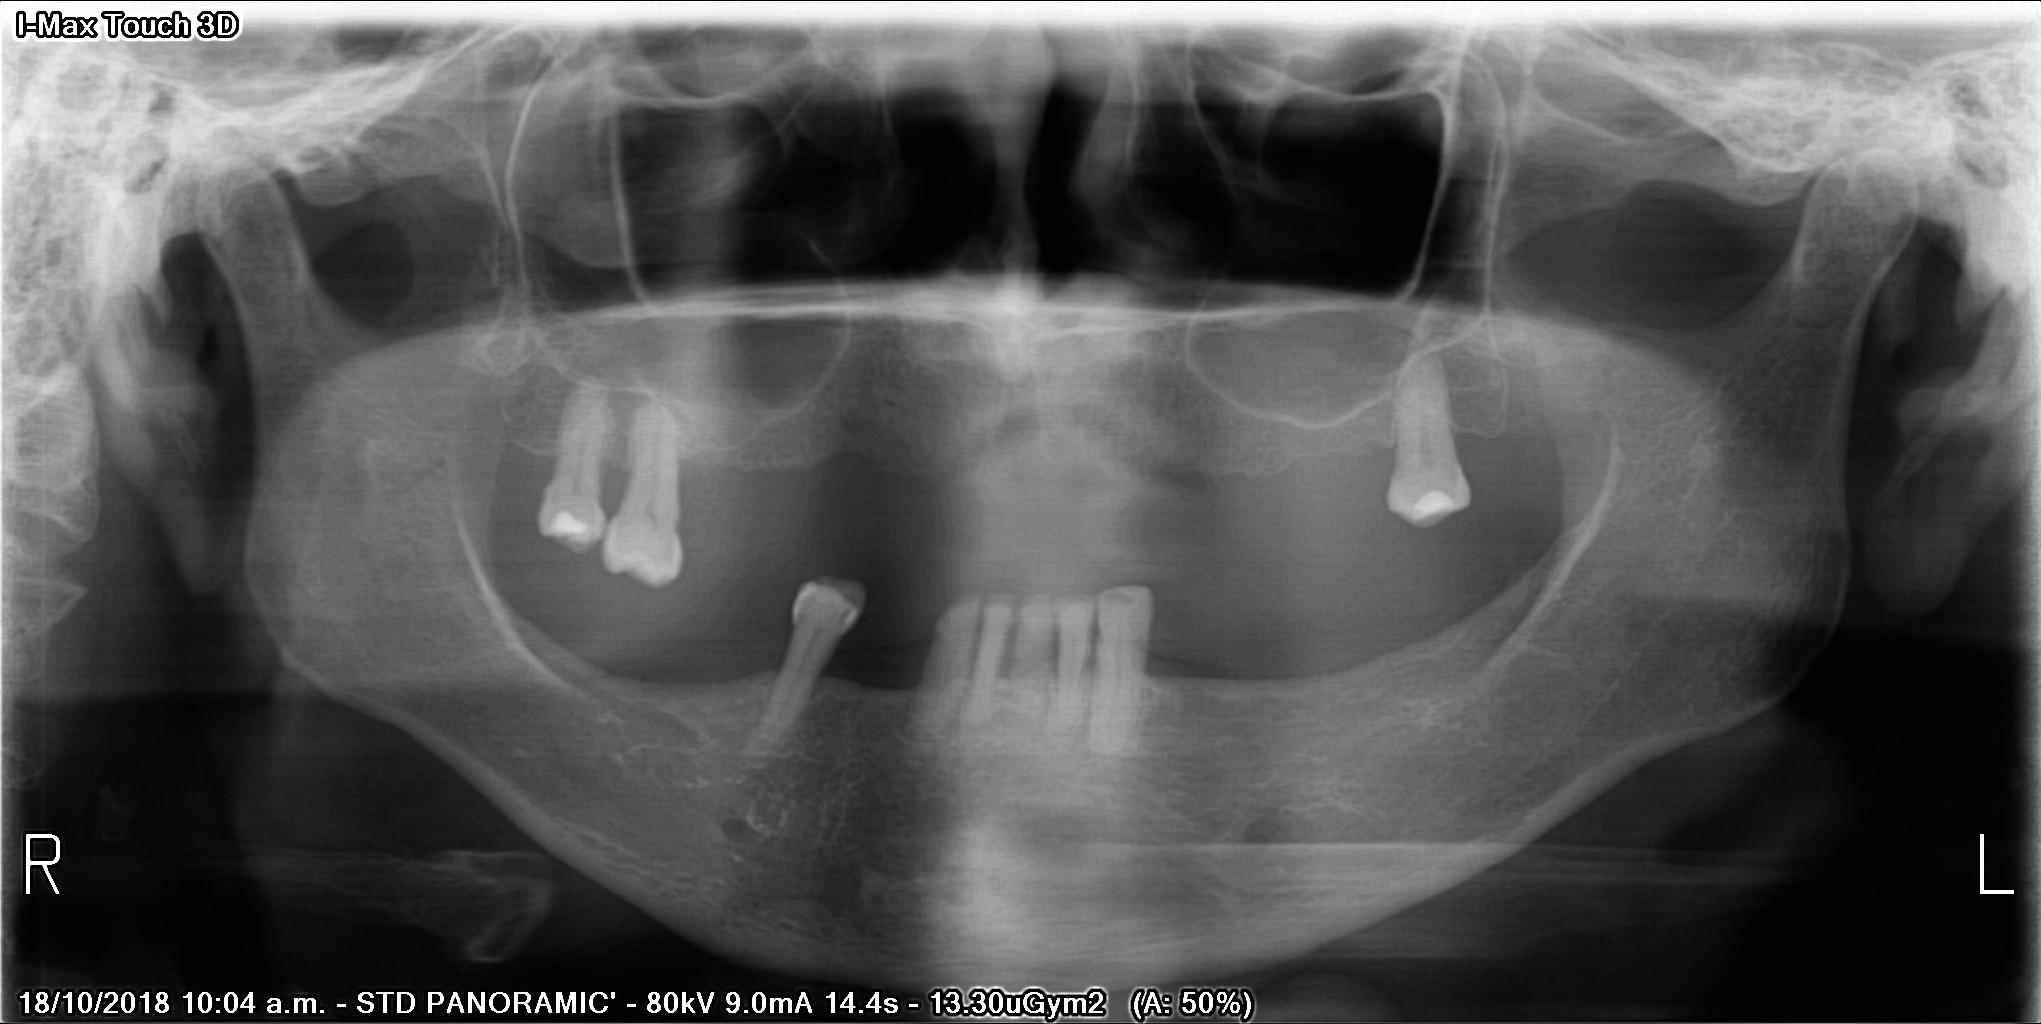Çürük: (1402, 486, 1459, 528), (542, 507, 599, 547)
